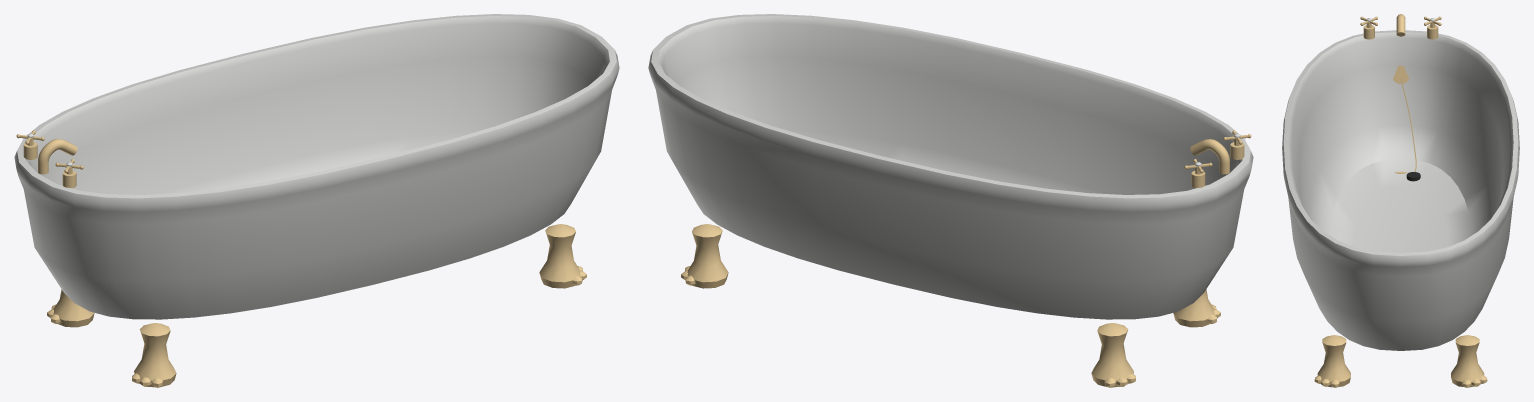
File: SM_Bathtub.fbx
3 views of the same model, side by side, from view 1: azimuth 30°, elevation 25°; view 2: azimuth 150°, elevation 25°; view 3: azimuth 270°, elevation 25° (orthographic). The views are drawn at different scales.
Parts seen in each view (by area): view 1: SM_Bathtub; view 2: SM_Bathtub; view 3: SM_Bathtub.
Part boxes in pixels (left/top/right/bottom): SM_Bathtub: left=14, top=14, right=619, bottom=387; SM_Bathtub: left=648, top=14, right=1253, bottom=387; SM_Bathtub: left=1282, top=14, right=1519, bottom=387.
Bounding box in the file's own units: 170 × 63.31 × 75.
